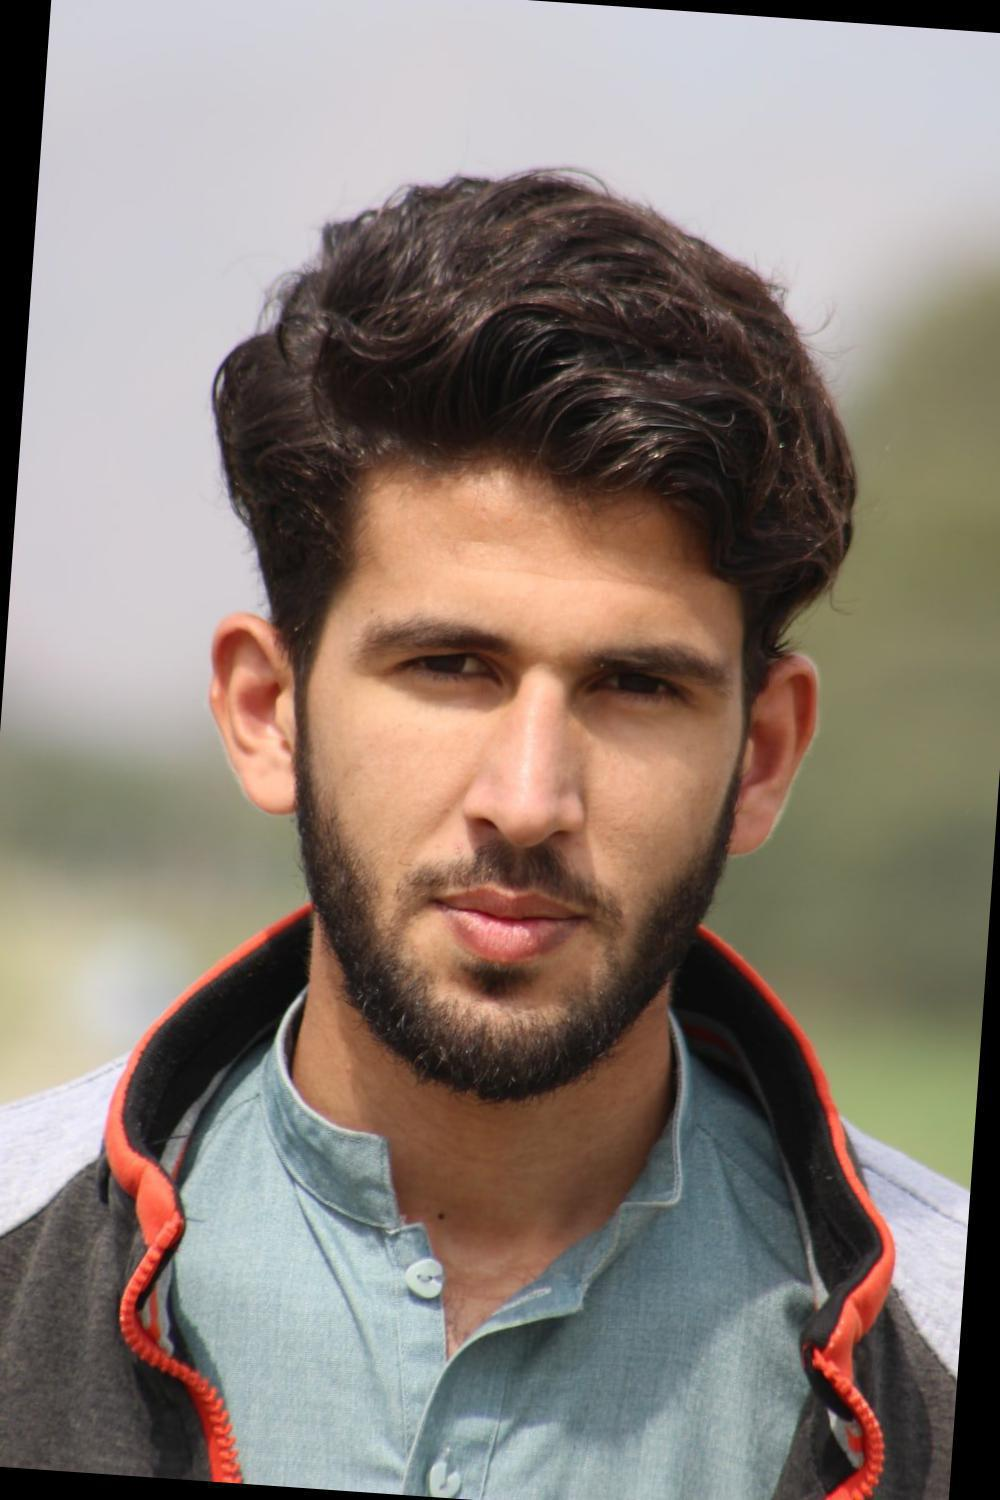Sober: (301, 464, 735, 1049)
